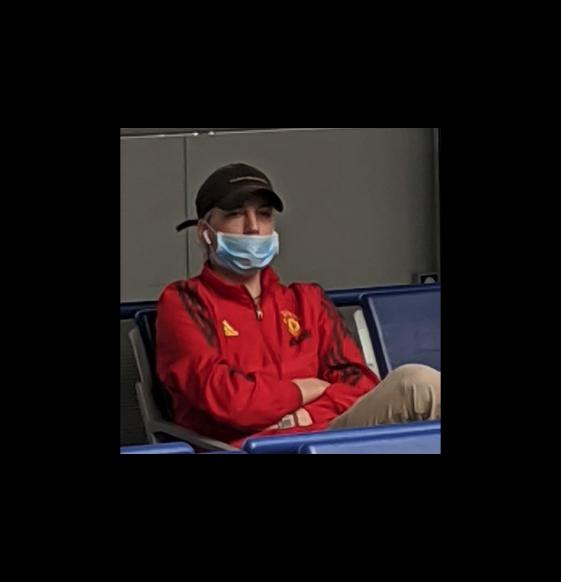mask_weared_incorrect: (212, 210, 282, 265)
